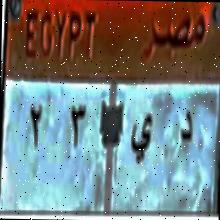2: (26, 102, 44, 157)
3: (66, 98, 88, 161)
daal: (176, 106, 194, 154)
yaa: (128, 108, 153, 165)
